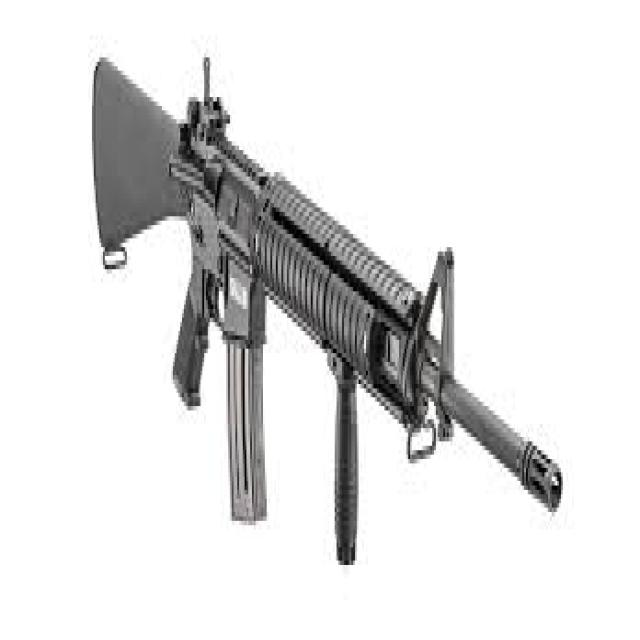rifle: (90, 38, 570, 583)
